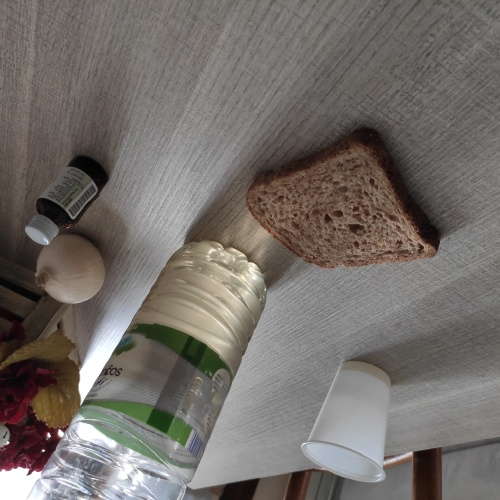cipolla: (29, 230, 108, 310)
pane: (244, 120, 441, 271)
